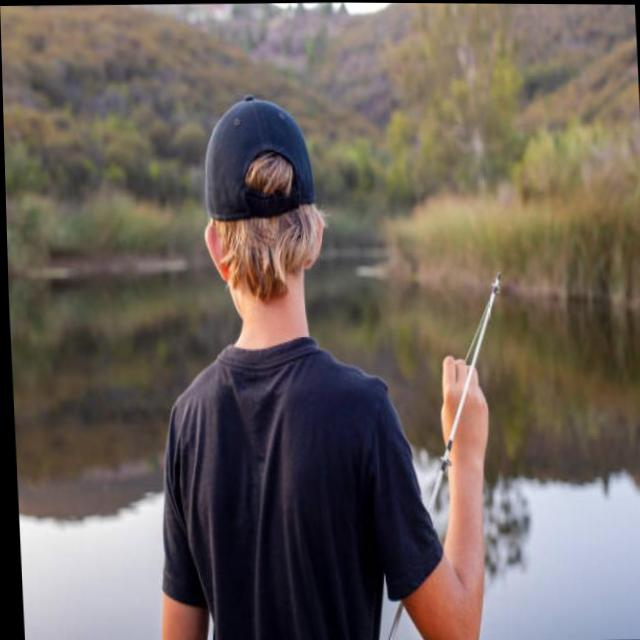no helmet: (173, 85, 331, 331)
